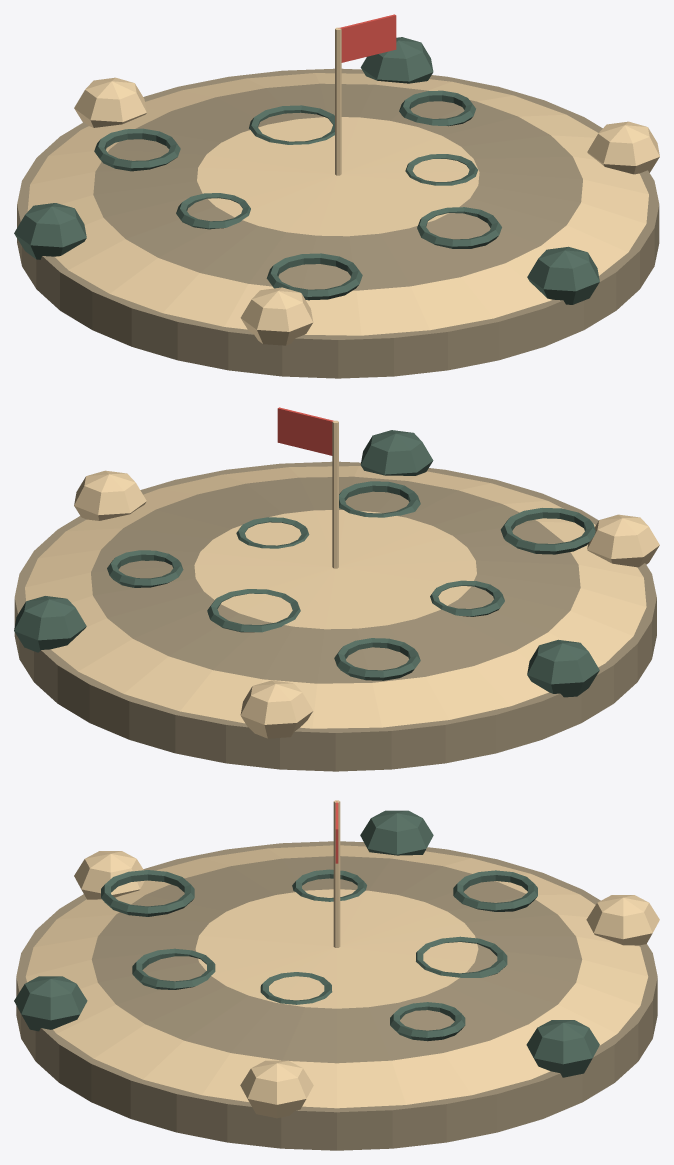
The model's file is ParkParkMoonMound.obj.
3 views of the same model, one above another, from view 1: azimuth 30°, elevation 25°; view 2: azimuth 150°, elevation 25°; view 3: azimuth 270°, elevation 25° (orthographic).
Visible parts, largest first — view 1: ParkParkMoonMound; view 2: ParkParkMoonMound; view 3: ParkParkMoonMound.
Part boxes in pixels (left/top/right/bottom): ParkParkMoonMound: left=14, top=14, right=659, bottom=378; ParkParkMoonMound: left=14, top=407, right=659, bottom=771; ParkParkMoonMound: left=14, top=800, right=659, bottom=1150.
Bounding box in the file's own units: 14.07 × 5 × 13.7.
